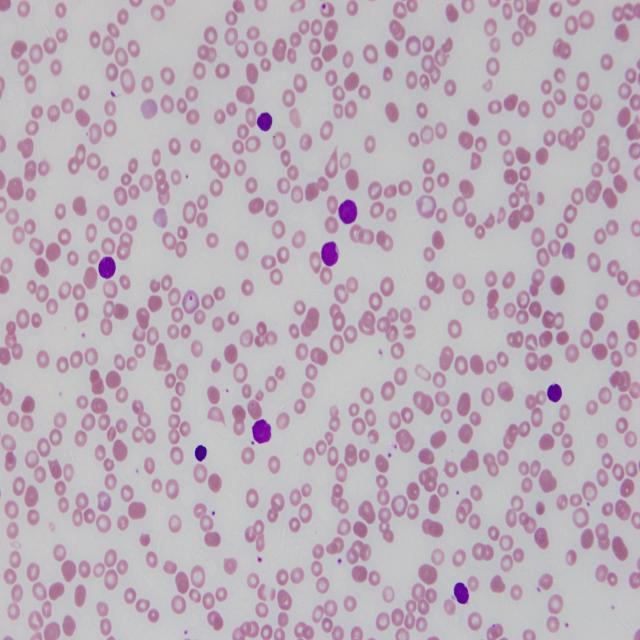cell: (321, 242, 339, 267), (339, 200, 358, 223), (252, 420, 271, 443), (99, 257, 116, 278), (256, 112, 272, 132), (454, 582, 469, 603), (548, 383, 562, 402), (194, 445, 208, 462)
